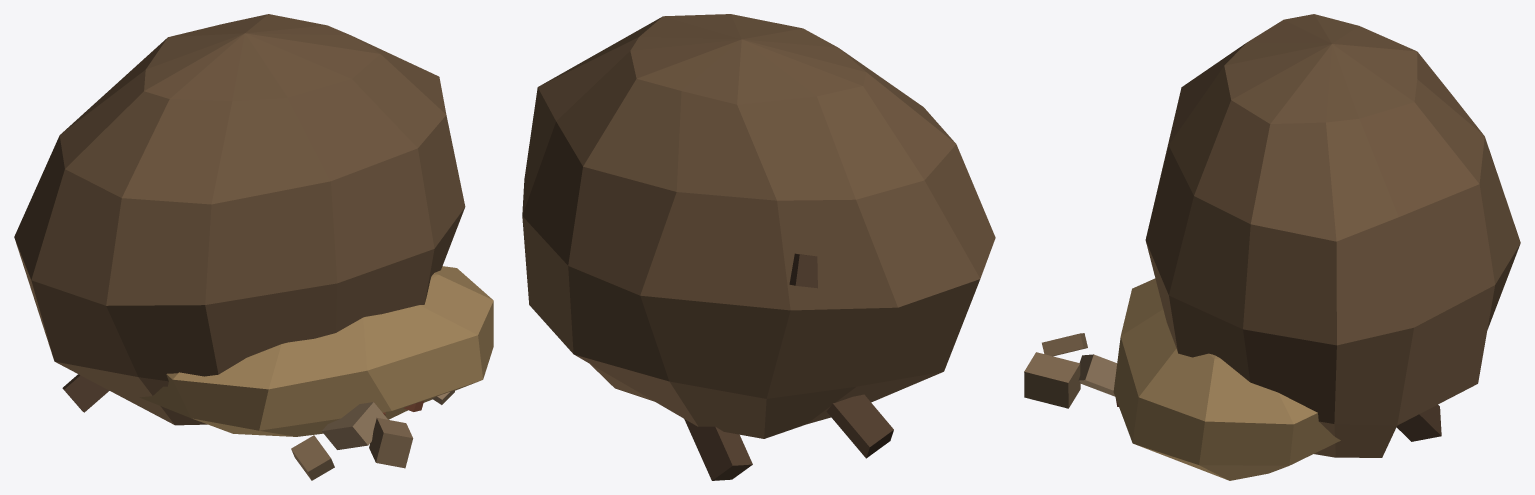
File: TownMouthPlug.glb
The picture shows the model from 3 angles, left to right: view 1: azimuth 30°, elevation 25°; view 2: azimuth 150°, elevation 25°; view 3: azimuth 270°, elevation 25°; orthographic projection. The views are drawn at different scales.
Visible parts, largest first — view 1: TownMouthPlug.001; view 2: TownMouthPlug.001; view 3: TownMouthPlug.001.
Boxes of the visible parts, left/top/right/bottom form: TownMouthPlug.001: left=14, top=14, right=493, bottom=480; TownMouthPlug.001: left=522, top=14, right=995, bottom=480; TownMouthPlug.001: left=1024, top=14, right=1520, bottom=480.
Size of the model in its own units: 3.9 by 3.39 by 3.7.
